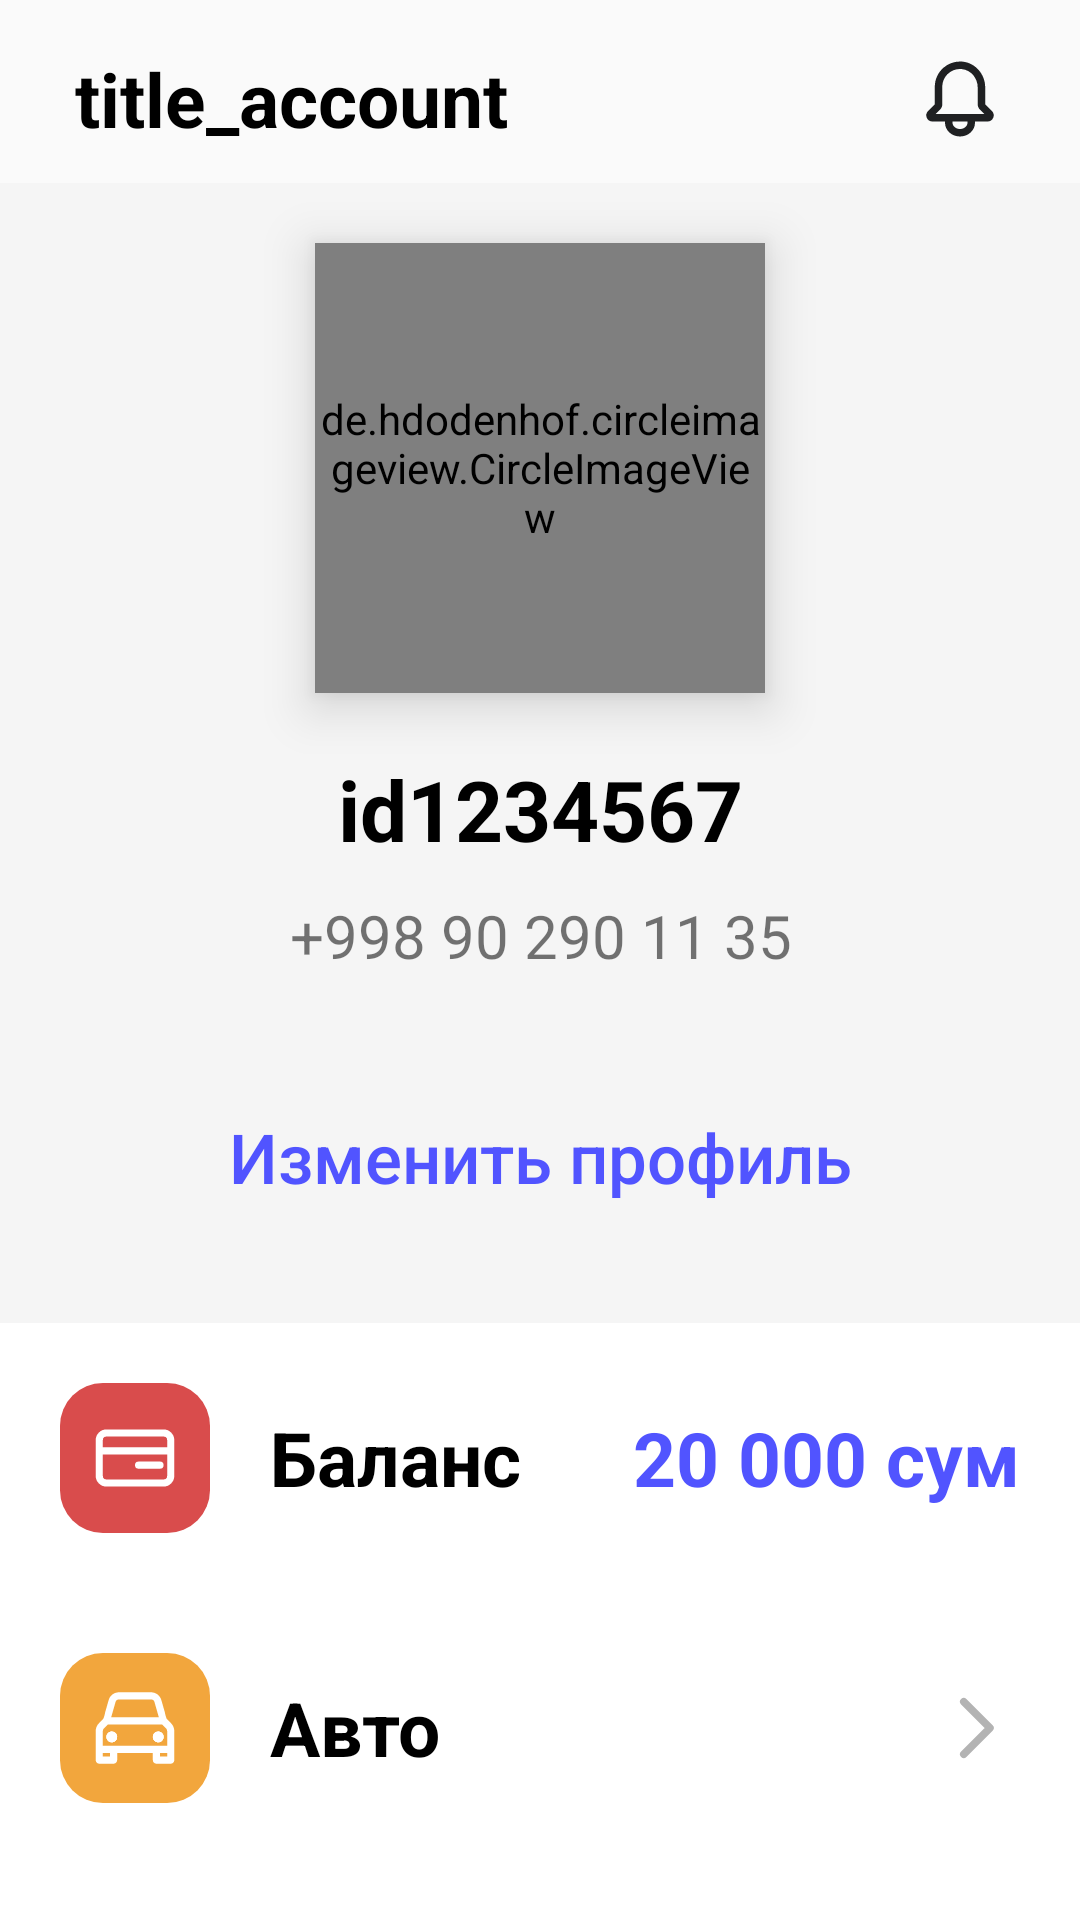

Point at icon controls on the screen. Image size 1080px×1920px, points as point (x, y).
arrow right: point (977, 1728)
auto: point (135, 1728)
balance: point (135, 1458)
bell: point (960, 99)
